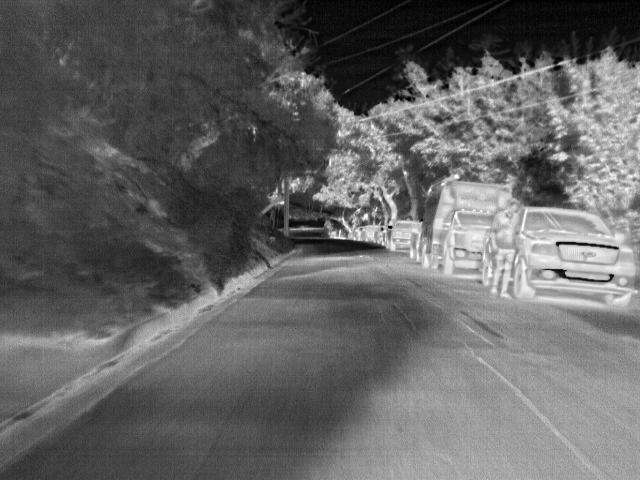car: (524, 205, 636, 306), (388, 218, 414, 252), (374, 224, 389, 244), (361, 224, 376, 242), (345, 226, 360, 240)
person: (491, 198, 523, 299)
